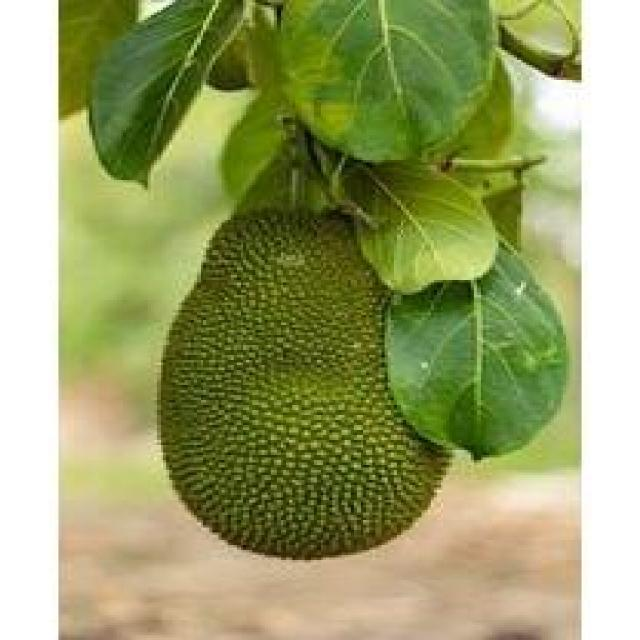Fruit: (129, 185, 486, 587)
